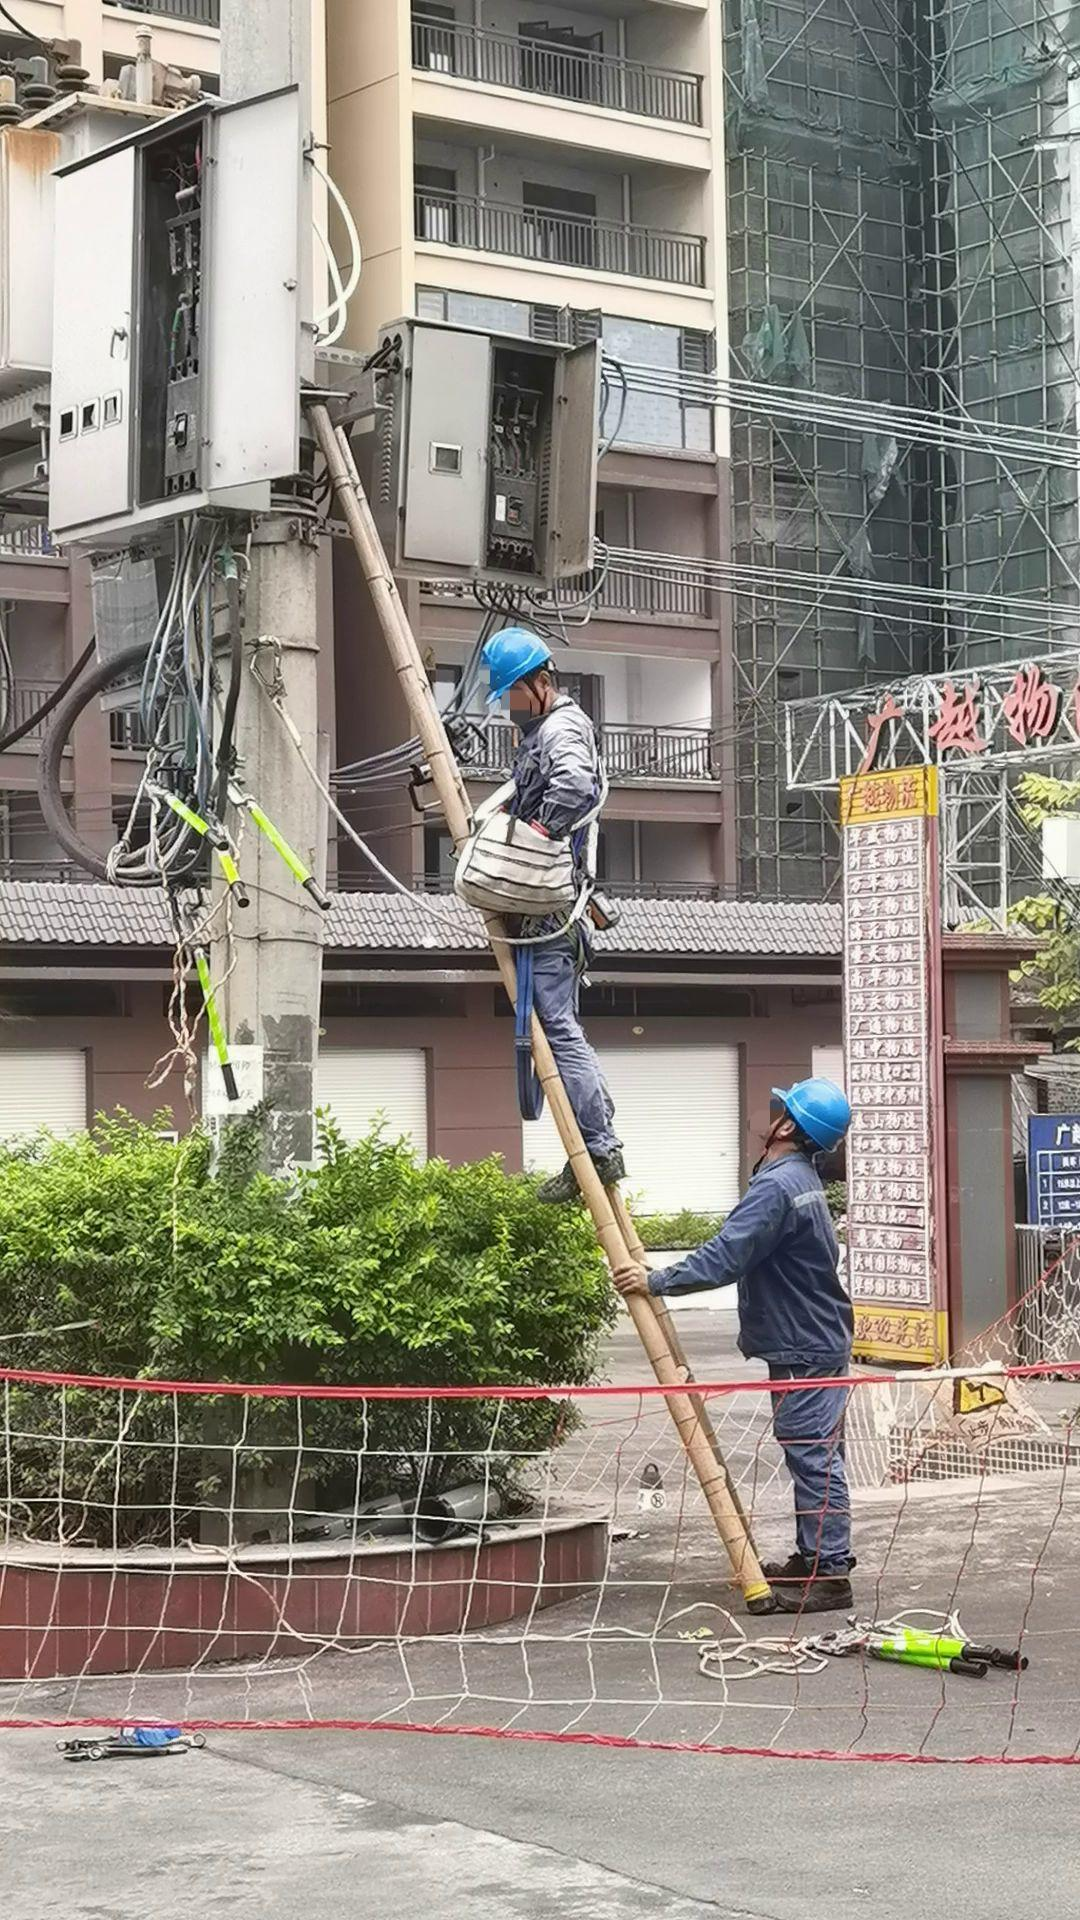halt: (761, 1079, 853, 1156), (484, 633, 559, 721)
inear: (530, 669, 560, 712), (769, 1110, 803, 1149)
